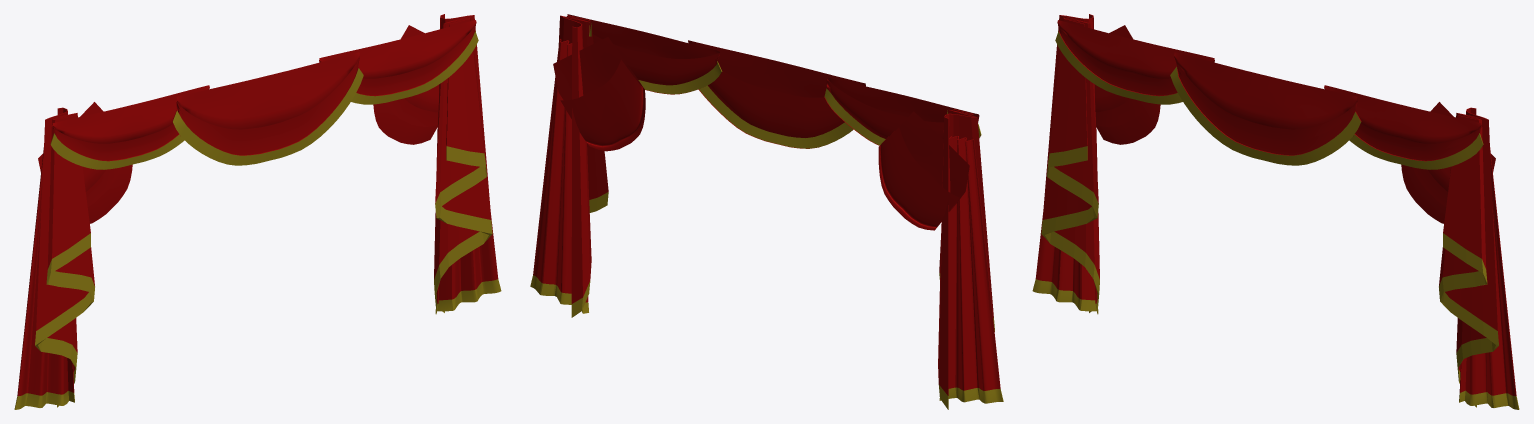
Rendered from Curtain_Decorations.fbx.
3 views of the same model, side by side, from view 1: azimuth 30°, elevation 25°; view 2: azimuth 150°, elevation 25°; view 3: azimuth 330°, elevation 25° (orthographic). The views are drawn at different scales.
Parts seen in each view (by area): view 1: nurbsToPoly10, nurbsToPoly8, nurbsToPoly7, nurbsToPoly11, nurbsToPoly9; view 2: nurbsToPoly11, nurbsToPoly9, nurbsToPoly8, nurbsToPoly7, nurbsToPoly10; view 3: nurbsToPoly10, nurbsToPoly8, nurbsToPoly7, nurbsToPoly11, nurbsToPoly9.
Part boxes in pixels (box(x1,y1,x2,y2)): nurbsToPoly10: box(35, 14, 492, 407); nurbsToPoly8: box(50, 20, 478, 169); nurbsToPoly7: box(172, 52, 363, 165); nurbsToPoly11: box(14, 147, 501, 409); nurbsToPoly9: box(38, 25, 439, 223); nurbsToPoly11: box(530, 39, 1003, 403); nurbsToPoly9: box(553, 37, 969, 230); nurbsToPoly8: box(567, 14, 981, 145); nurbsToPoly7: box(688, 40, 865, 148); nurbsToPoly10: box(558, 15, 994, 409); nurbsToPoly10: box(1041, 14, 1498, 407); nurbsToPoly8: box(1055, 20, 1483, 169); nurbsToPoly7: box(1170, 52, 1361, 165); nurbsToPoly11: box(1032, 147, 1519, 409); nurbsToPoly9: box(1094, 25, 1495, 223).
Bounding box in the file's own units: 65.14 × 38.31 × 4.72.
